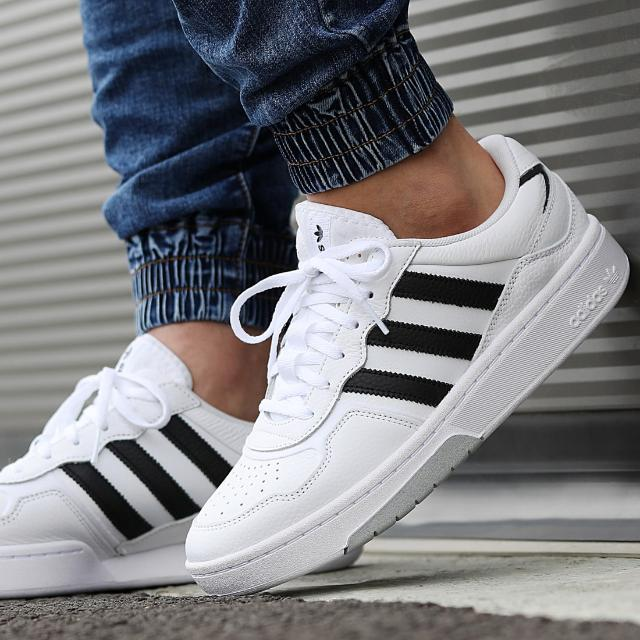Adidas: (564, 281, 612, 332), (597, 259, 624, 290), (312, 223, 326, 243)
